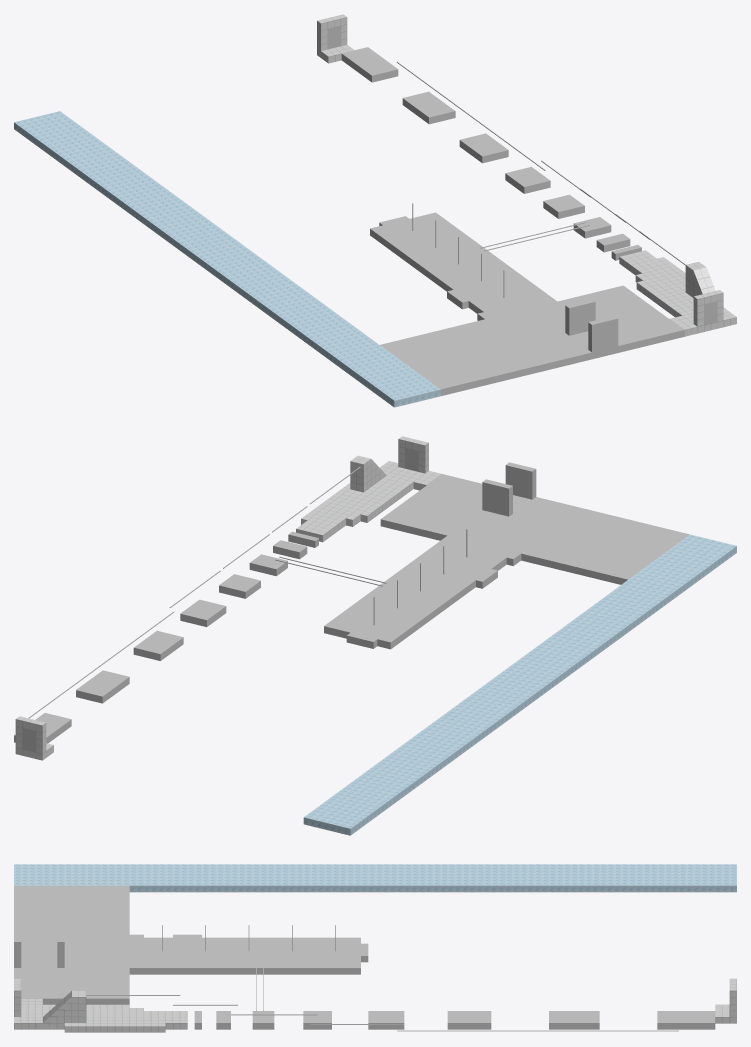
File: test_area.gltf
The picture shows the model from 3 angles, top to bottom: view 1: azimuth 30°, elevation 25°; view 2: azimuth 150°, elevation 25°; view 3: azimuth 270°, elevation 25°; orthographic projection. The views are drawn at different scales.
Parts seen in each view (by area): view 1: map; view 2: map; view 3: map.
Boxes of the visible parts, <box> form: map: <box>14,14,736,407</box>; map: <box>14,436,736,835</box>; map: <box>14,864,736,1032</box>.
Size of the model in its own units: 107 by 10 by 200.
